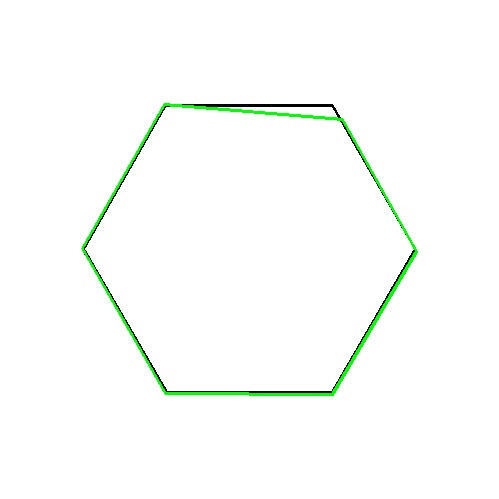line_segment: (82, 103, 417, 395)
